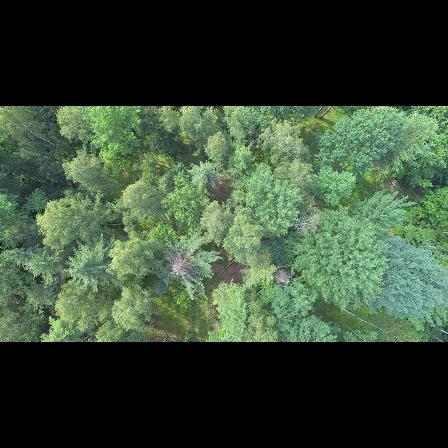Dead: (164, 248, 198, 287), (288, 206, 321, 234), (269, 267, 296, 290)
